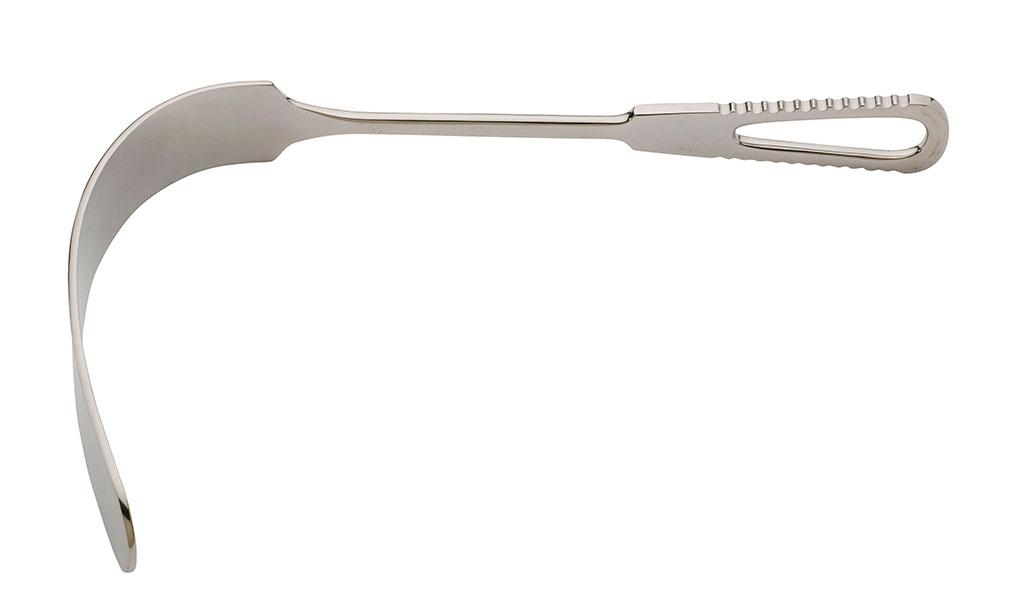Kelly Retractor: (55, 67, 953, 585)
